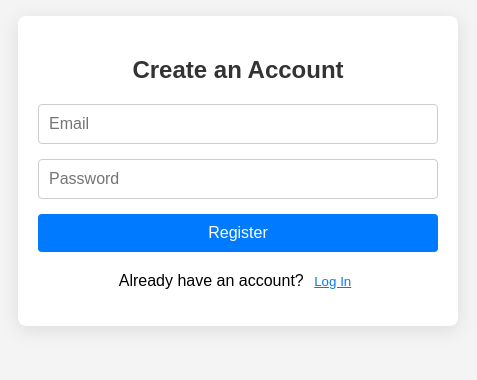
Test: Register Component › shows an error message on registration failure
Enter valid credentials
In the field with placeholder "Email": (238, 124) [38, 104, 438, 144], type "test@example.com"
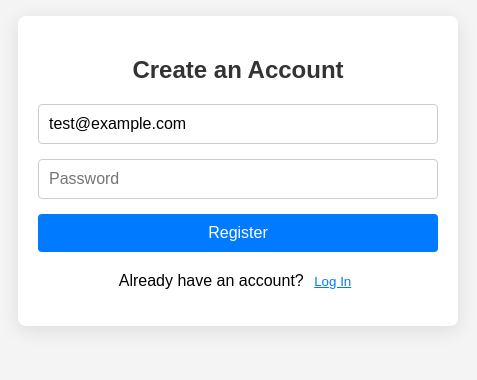
In the password field with placeholder "Password": (238, 179) [38, 159, 438, 199], type "Valid1@Password"
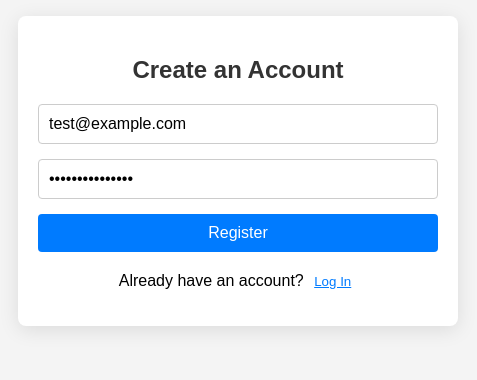
Click the button "Register": (238, 233) [38, 214, 438, 252]
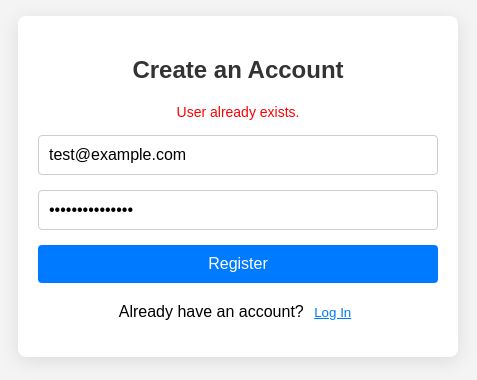
Now the text "User already exists." is shown, box [176, 104, 299, 120]
